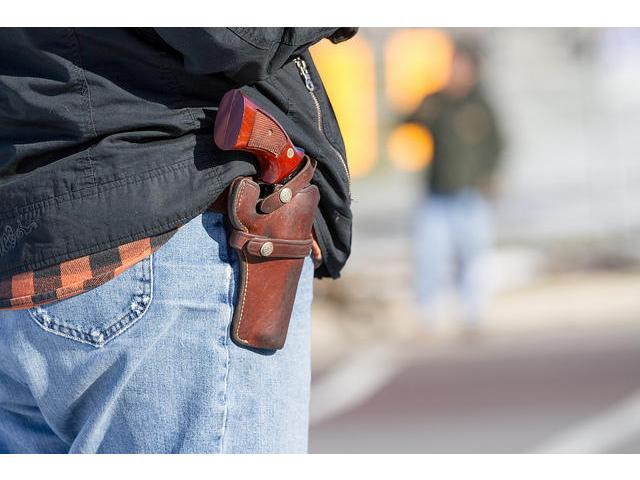pistol: (210, 89, 319, 354)
